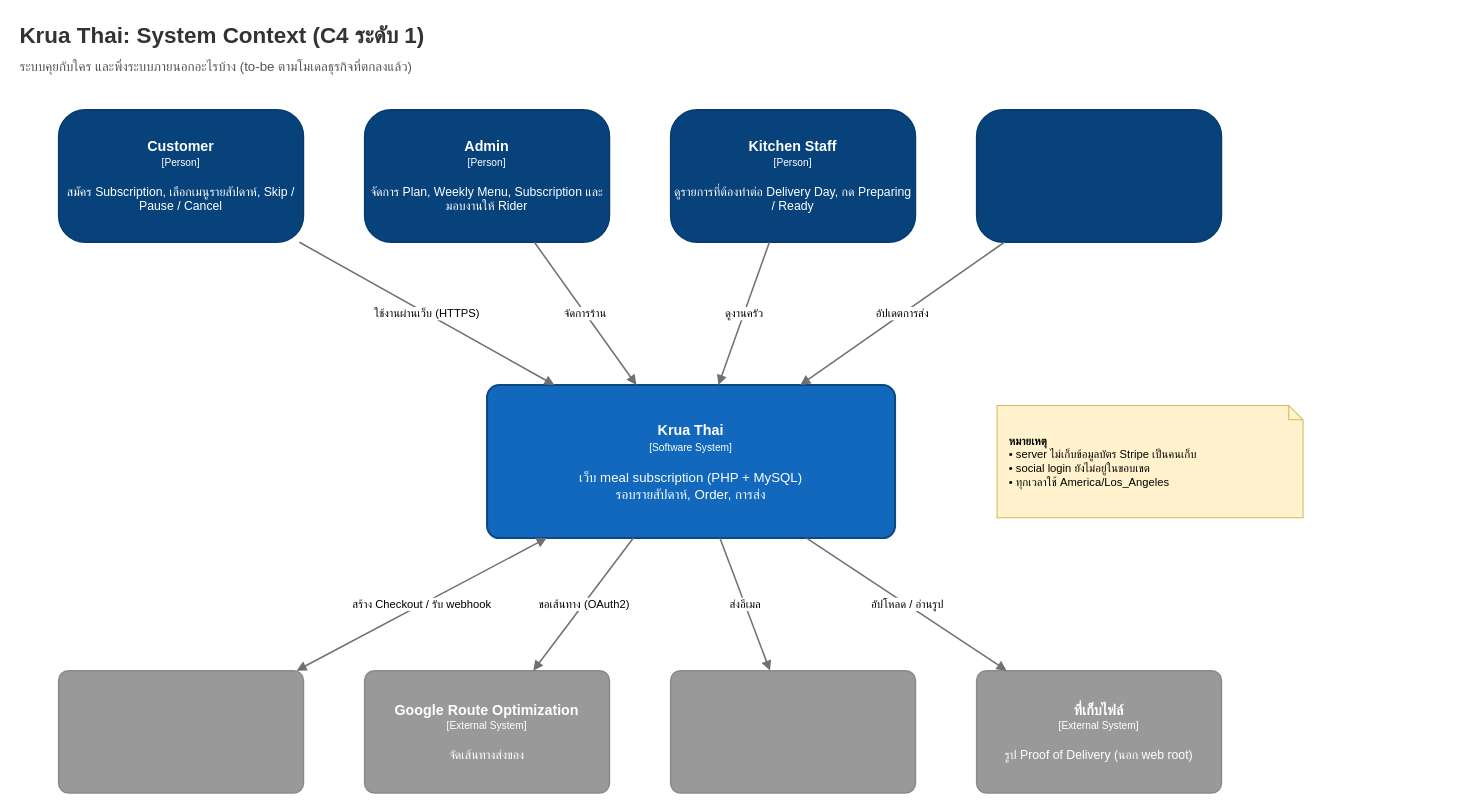
The diagram is 1463 pixels wide and 811 high, and some of its shapes have lost their labels. Here are the shapes that lost their labels. From the top down, the box of each, then its label:
(975, 108, 1222, 243): Rider [Person] รับของ, ส่งถึงบ้าน, แนบ Proof of Delivery
(57, 669, 304, 793): Stripe Billing [External System] Checkout, Subscription, Invoice, webhook
(669, 669, 916, 793): ผู้ให้บริการอีเมล [External System] อีเมลยืนยัน, แจ้งเตือน, สรุปเมนู
